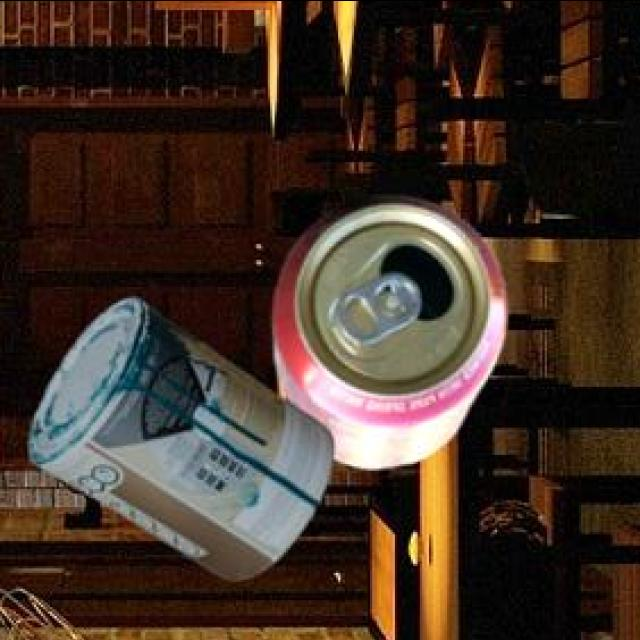logam: (26, 294, 330, 575), (271, 192, 503, 464)
